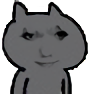dragon: (20, 25, 69, 66)
